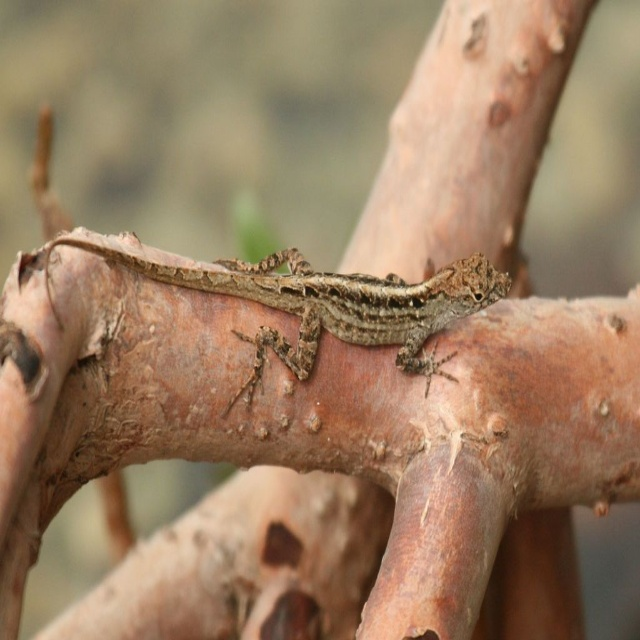Lizard: (13, 235, 531, 466)
